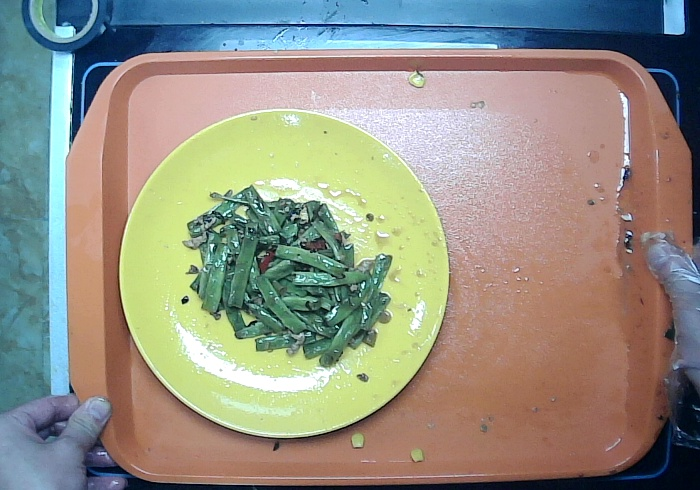HZYJPL-Huang_Se_Yuan_Pan: (116, 106, 451, 439)
